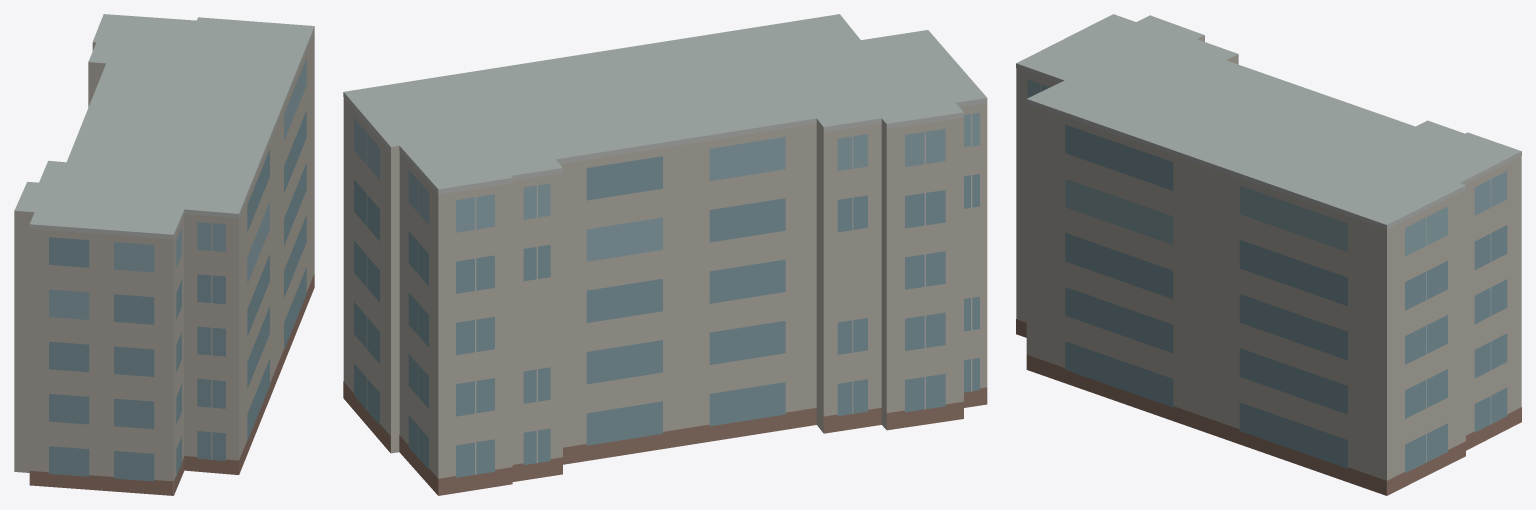
Rendered from survey-upis-33030989.glb.
The picture shows the model from 3 angles, left to right: view 1: azimuth 30°, elevation 25°; view 2: azimuth 150°, elevation 25°; view 3: azimuth 270°, elevation 25°; orthographic projection. The views are drawn at different scales.
Parts seen in each view (by area): view 1: survey-upis-33030989.tmp; view 2: survey-upis-33030989.tmp; view 3: survey-upis-33030989.tmp.
Boxes of the visible parts, <box> form: survey-upis-33030989.tmp: <box>14,14,314,495</box>; survey-upis-33030989.tmp: <box>343,14,987,495</box>; survey-upis-33030989.tmp: <box>1016,14,1521,495</box>.
Size of the model in its own units: 23.57 by 14.1 by 23.86.
